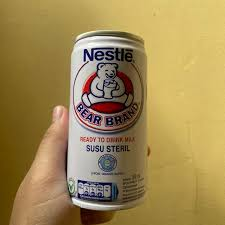metal: (65, 28, 149, 211)
